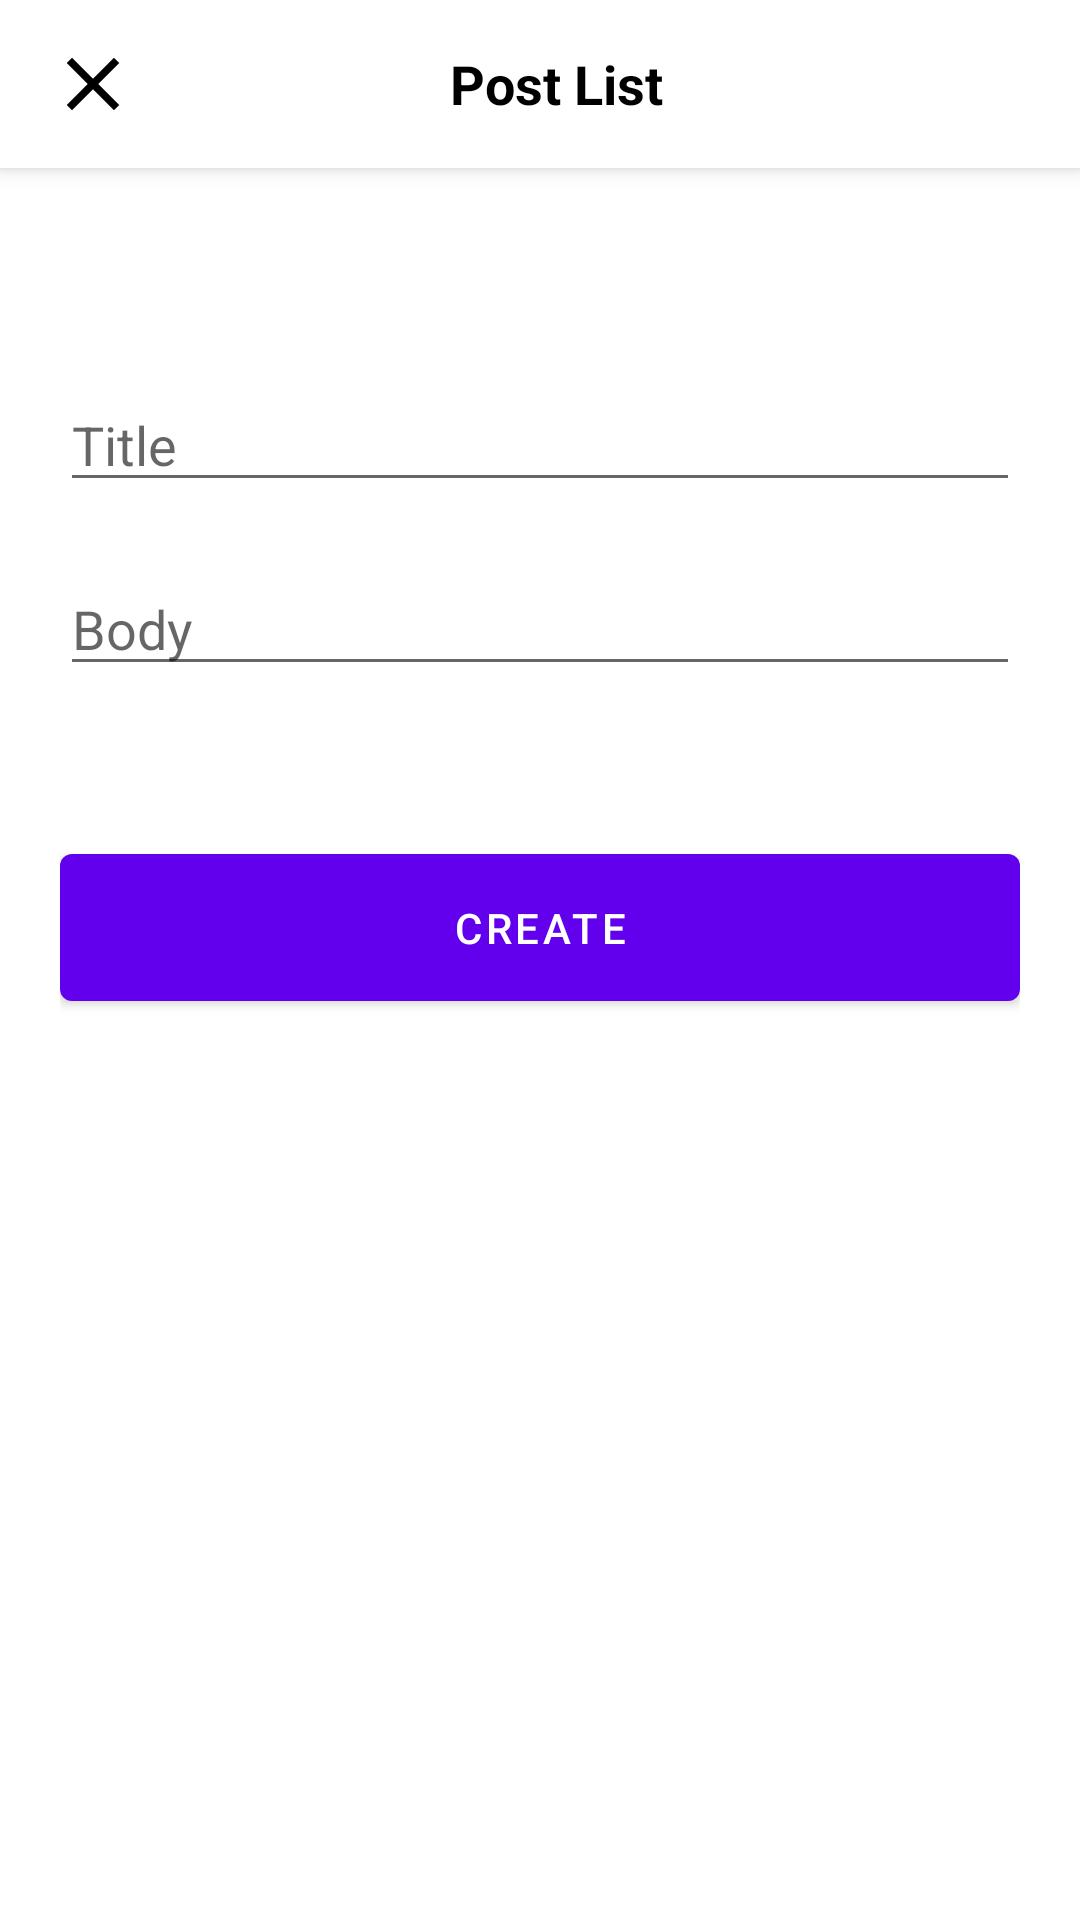

Locate icon controls on the screen. Image size 1080*1920, boxes as bbox(x1, y1, x2, y2).
close: bbox(67, 58, 119, 110)
